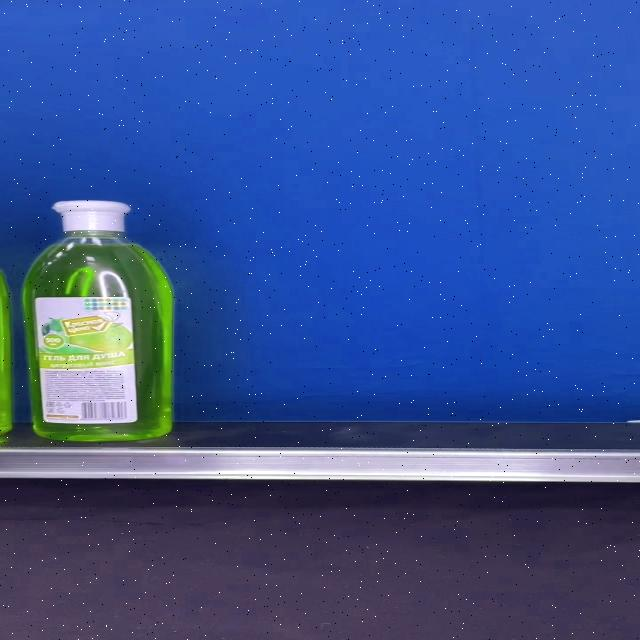Bottle: (23, 200, 175, 442)
Cap: (51, 200, 130, 232)
